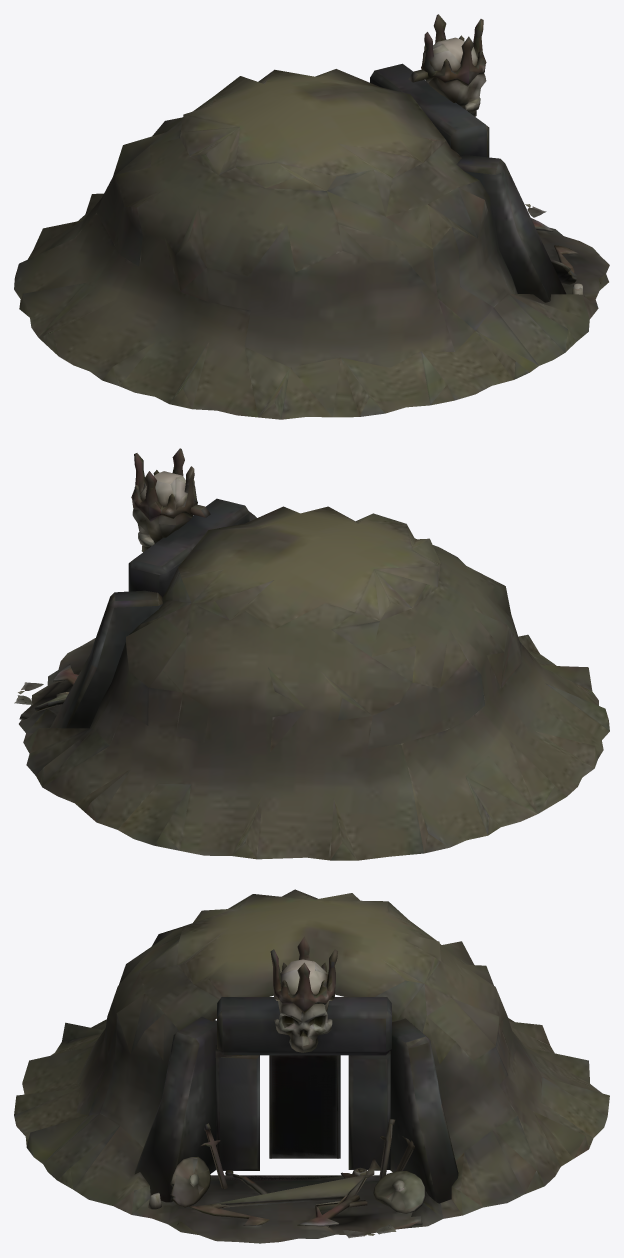
The model's file is prop_node_barrow_tomb.glb.
3 renders of one model, top to bottom at view 1: azimuth 30°, elevation 25°; view 2: azimuth 150°, elevation 25°; view 3: azimuth 270°, elevation 25°, orthographic.
Visible parts, largest first — view 1: tripo_node_810d9c79-a26f-46d1-ac5f-1c12e9975ac3; view 2: tripo_node_810d9c79-a26f-46d1-ac5f-1c12e9975ac3; view 3: tripo_node_810d9c79-a26f-46d1-ac5f-1c12e9975ac3.
Part boxes in pixels (x1,y1,x2,y2): tripo_node_810d9c79-a26f-46d1-ac5f-1c12e9975ac3: (14, 14, 609, 419); tripo_node_810d9c79-a26f-46d1-ac5f-1c12e9975ac3: (14, 448, 609, 860); tripo_node_810d9c79-a26f-46d1-ac5f-1c12e9975ac3: (14, 889, 609, 1243).
Size of the model in its own units: 0.998 by 0.4473 by 0.998.
1 material, 1 textured.
